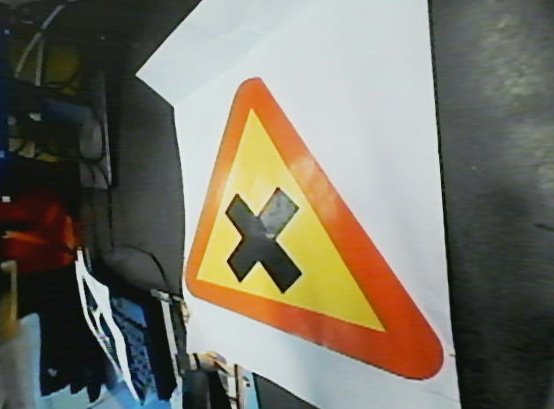junction: (178, 66, 447, 385)
